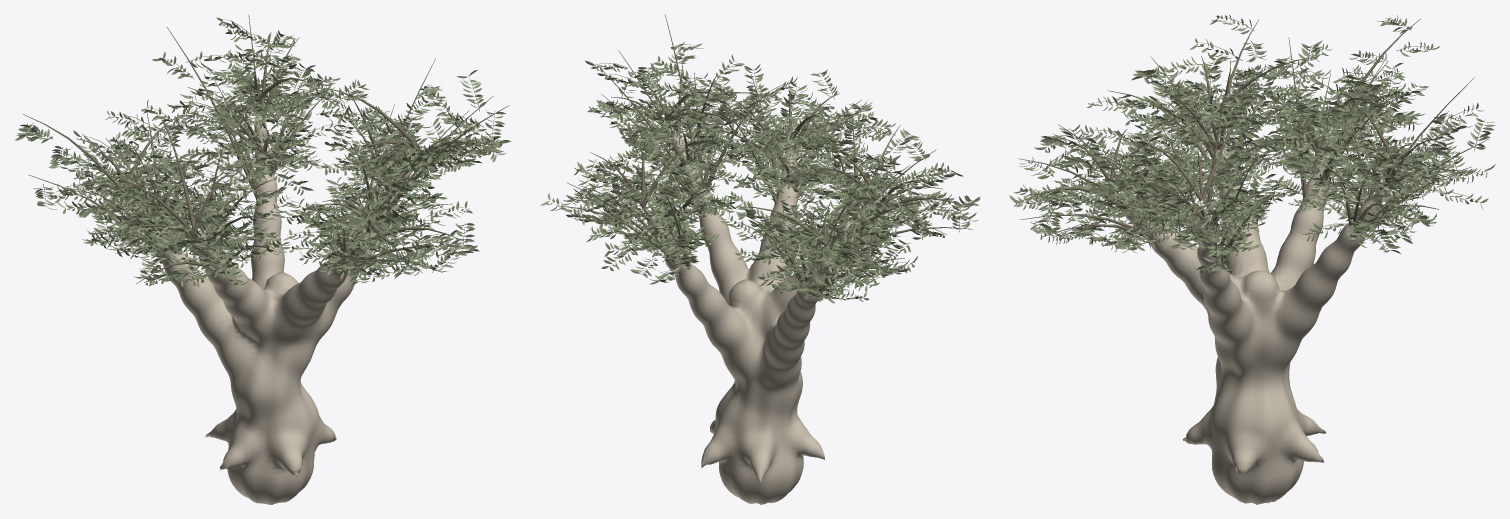
File: olea-europaea-light.glb
3 views of the same model, side by side, from view 1: azimuth 30°, elevation 25°; view 2: azimuth 150°, elevation 25°; view 3: azimuth 270°, elevation 25° (orthographic). The views are drawn at different scales.
Parts seen in each view (by area): view 1: olea-europaea-light; view 2: olea-europaea-light; view 3: olea-europaea-light.
Part boxes in pixels (x1=…): olea-europaea-light: x1=15, y1=14, x2=511, y2=504; olea-europaea-light: x1=540, y1=14, x2=980, y2=504; olea-europaea-light: x1=1009, y1=15, x2=1495, y2=504.
Size of the model in its own units: 3.66 by 3.61 by 3.61.
